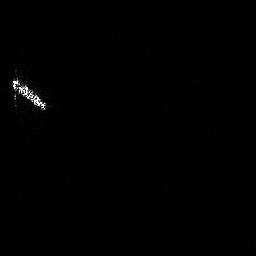ship: (7, 74, 50, 113)
